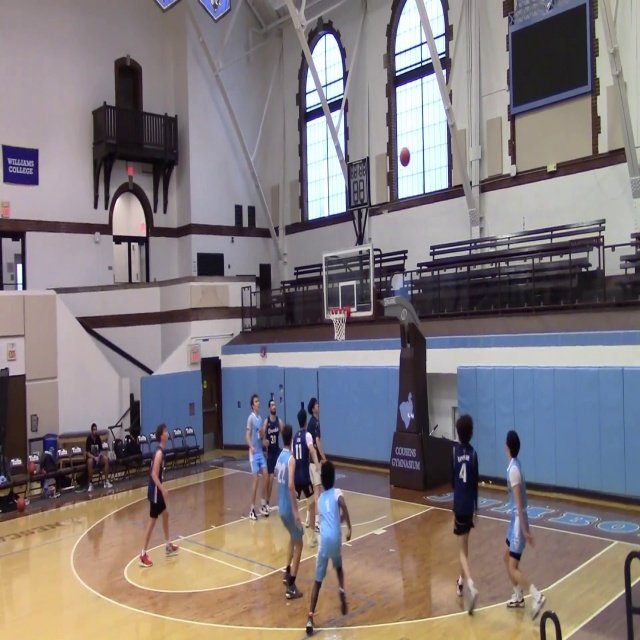Basketball: (399, 147, 410, 167), (27, 462, 37, 474)
